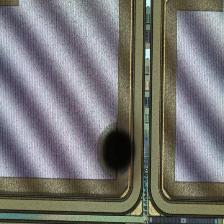PARTICLE: (98, 122, 138, 179)
